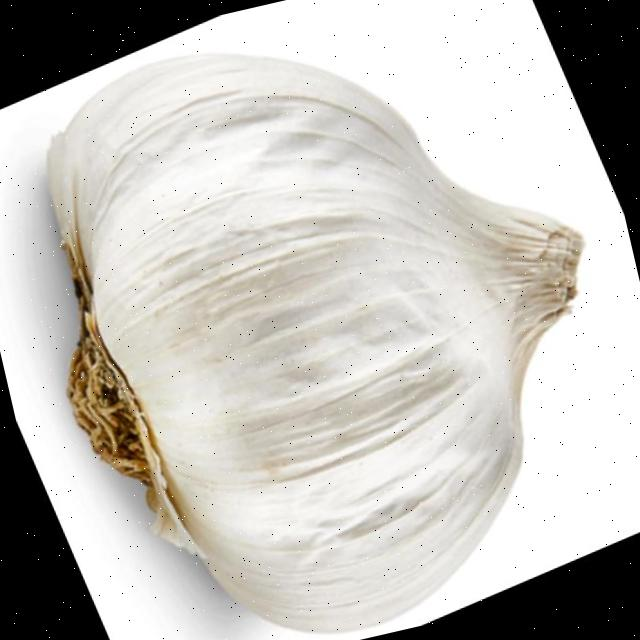garlic: (47, 55, 582, 632)
